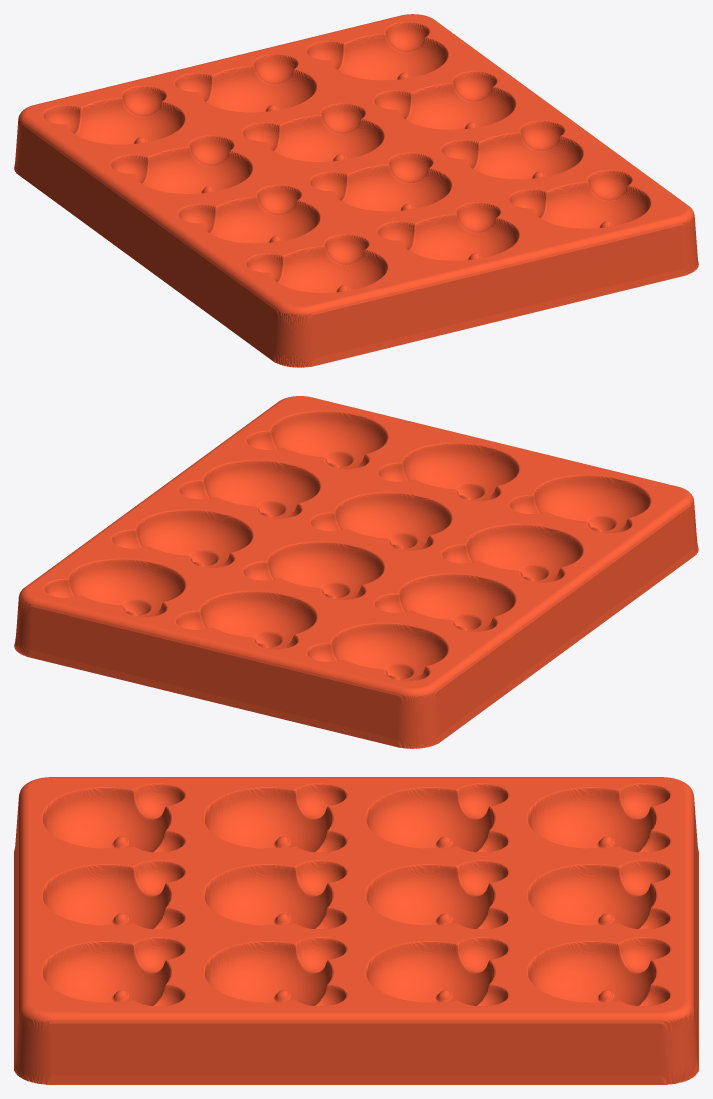
The model's file is mold.glb.
The picture shows the model from 3 angles, top to bottom: view 1: azimuth 30°, elevation 25°; view 2: azimuth 150°, elevation 25°; view 3: azimuth 270°, elevation 25°; orthographic projection. The views are drawn at different scales.
Visible parts, largest first — view 1: geometry_0; view 2: geometry_0; view 3: geometry_0.
Part boxes in pixels (<box>): geometry_0: <box>14,14,698,367</box>; geometry_0: <box>14,396,698,748</box>; geometry_0: <box>14,777,698,1084</box>.
Bounding box in the file's own units: 0.1389 × 0.0175 × 0.1629.
